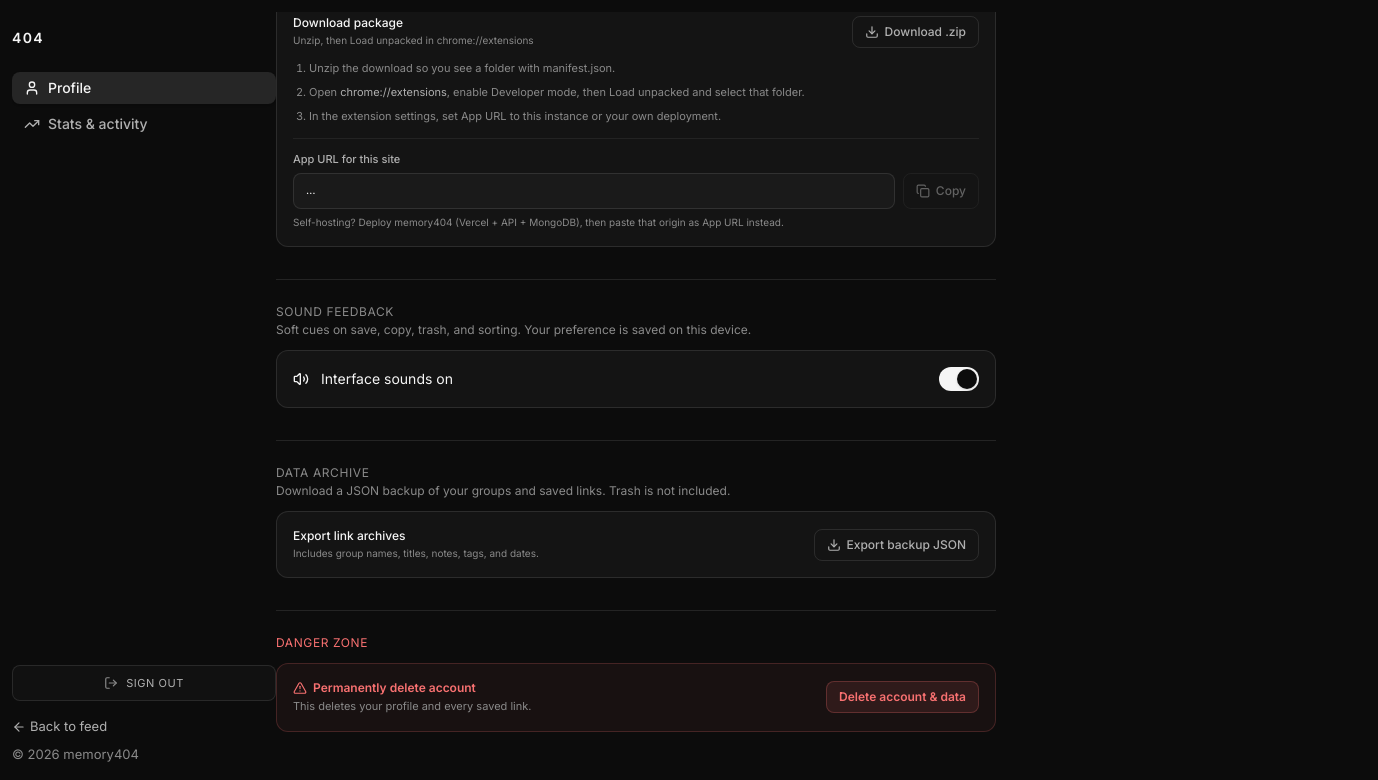
Scenario: library export › says the session expired instead of a raw unauthorized
(page scrolled)
Step 1. Click the button "Export backup JSON" → (896, 545), box [814,529,979,561]
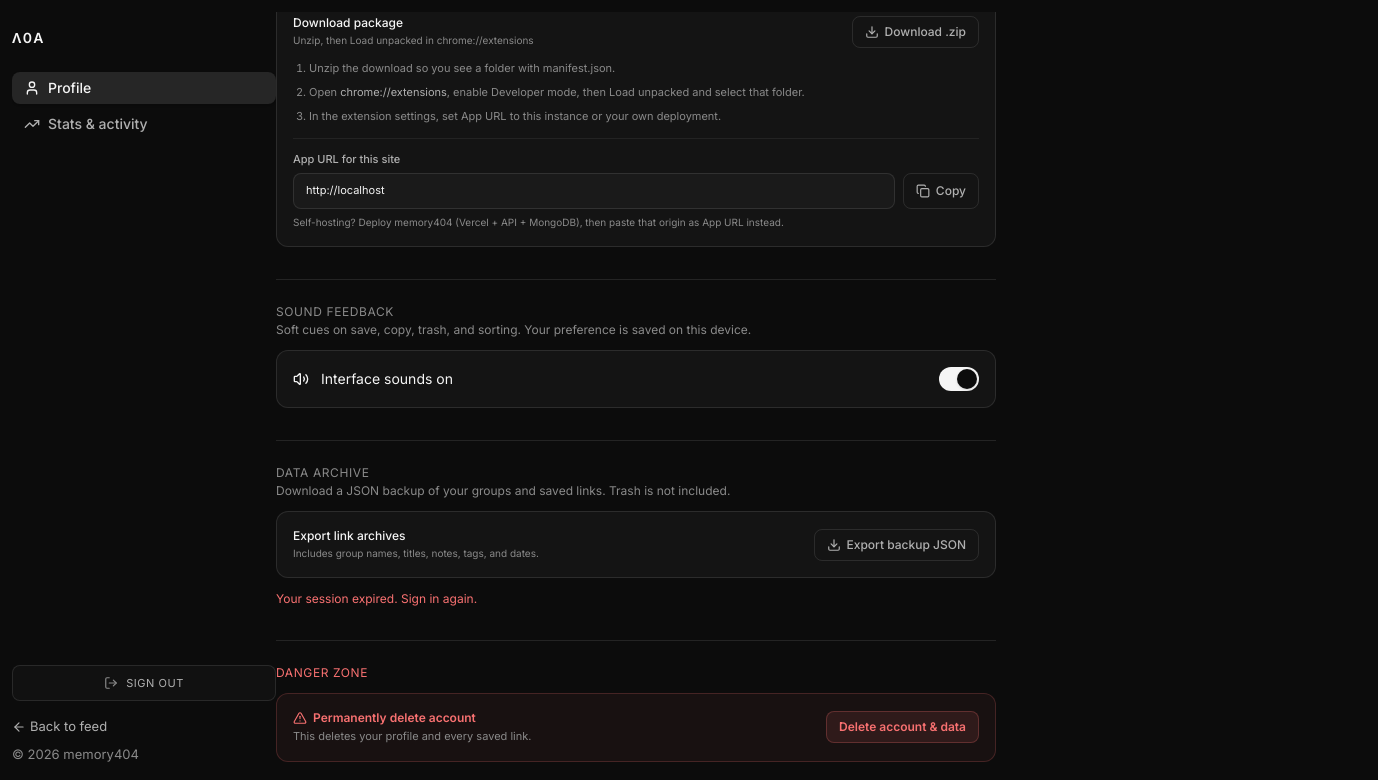
Check: the message reads "Your session expired. Sign in again.", box [276,591,477,606]
